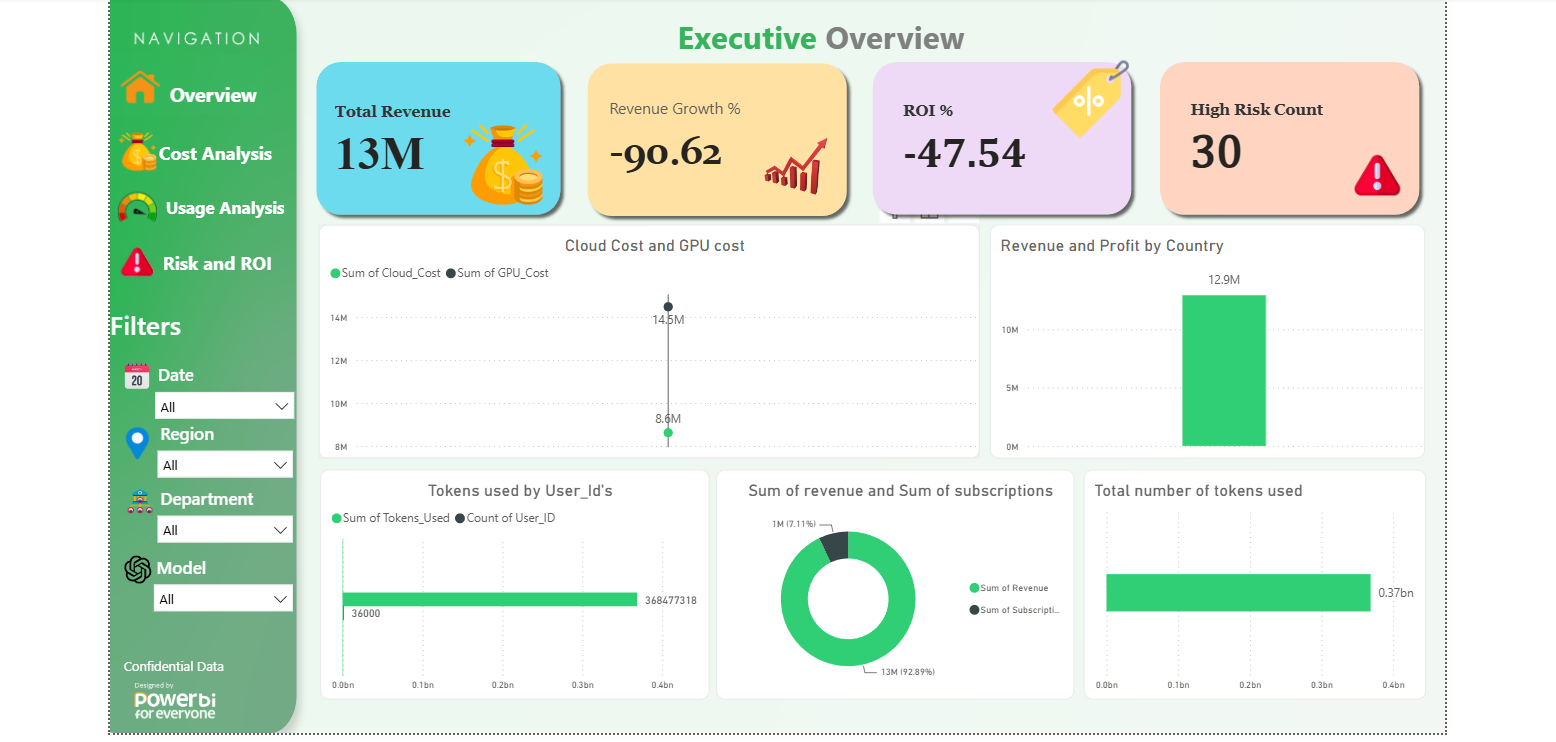

The dashboard page shown, as its layout file describes it:
{"tool":"powerbi","page":{"name":"Overview","canvas":[1360,750],"ordinal":0},"visuals":[{"type":"image","box":[0,0,202.5,750.3],"z":0},{"type":"lineChart","title":"Cloud Cost and GPU cost","fields":{"Y":["Sum(AI_Investment.Cloud_Cost)","Sum(AI_Investment.GPU_Cost)"]},"box":[212.5,231.2,673.8,238.8],"z":1000},{"type":"textbox","box":[8.9,667.5,127.4,35.7],"z":2000},{"type":"image","box":[9.5,692.6,115.2,47.3],"z":3000},{"type":"clusteredBarChart","title":"Tokens used by User_Id''s","fields":{"Y":["Sum(Usage_Data.Tokens_Used)","CountNonNull(Usage_Data.User_ID)"]},"box":[213.8,481.7,396.7,234.4],"z":4000},{"type":"textbox","box":[573.2,14,335,58.6],"z":5000},{"type":"image","box":[19.1,29.3,138.8,30.6],"z":6000},{"type":"lineStackedColumnComboChart","title":"Revenue and Profit by Country","fields":{"Y":["Sum(AI_Revenue.Revenue)"]},"box":[896.7,231.2,443.4,238.6],"z":7000},{"type":"donutChart","title":"Sum of revenue and Sum of subscriptions","fields":{"Y":["Sum(AI_Revenue.Revenue)","Sum(AI_Revenue.Subscription_Count)"]},"box":[618.2,481.7,364.5,234.4],"z":8000},{"type":"clusteredBarChart","title":"Total number of tokens used","fields":{"Y":["Sum(Usage_Data.Tokens_Used)"]},"box":[991.7,481.7,349,234.4],"z":9000},{"type":"actionButton","box":[0,58.6,157.9,61.1],"z":9001},{"type":"actionButton","box":[0,129.9,173.2,56],"z":9002},{"type":"actionButton","box":[0,186,186,56],"z":9003},{"type":"actionButton","box":[0,242,173.2,56],"z":9004},{"type":"shape","box":[0,307,169.4,52.2],"z":9005},{"type":"slicer","fields":{"Values":["AI_Investment.Date"]},"box":[35.7,368.1,161.8,68.8],"z":9006},{"type":"slicer","fields":{"Values":["AI_Investment.Department"]},"box":[38.2,494.2,157.9,66.2],"z":9007},{"type":"slicer","fields":{"Values":["AI_Revenue.Region"]},"box":[38.2,428,157.9,66.2],"z":9008},{"type":"slicer","fields":{"Values":["AI_Investment.Model_Name"]},"box":[34.4,564.3,161.8,68.8],"z":9009},{"type":"shape","box":[202.9,58.7,264.1,171],"z":9010},{"type":"cardVisual","fields":{"Data":["AI_Investment.Total Revenue"]},"box":[220.7,80.4,229.6,131.4],"z":9011},{"type":"shape","box":[769.4,58.6,279,170.7],"z":9013},{"type":"cardVisual","fields":{"Data":["AI_Investment.ROI %"]},"box":[791,75.2,234.4,140.1],"z":9014},{"type":"shape","box":[478.4,60,279.4,171],"z":9015},{"type":"shape","box":[1062.7,58.7,279.4,171],"z":9016},{"type":"cardVisual","fields":{"Data":["AI_Investment.High Risk Count"]},"box":[1084.4,80.4,239.8,134],"z":9017},{"type":"image","box":[1257.9,145.4,66.3,72.7],"z":9018},{"type":"image","box":[950.5,60,98.2,88],"z":9019},{"type":"cardVisual","fields":{"Data":["AI_Investment.Revenue Growth %"]},"box":[491.2,80.4,255.2,123.8],"z":9020},{"type":"image","box":[645.8,131.2,112.1,86.6],"z":9021},{"type":"image","box":[351.6,124.8,98.1,93],"z":9022},{"type":"image","box":[1.3,359.2,52.2,53.5],"z":9023},{"type":"image","box":[11.5,494.2,38.2,39.5],"z":9024},{"type":"image","box":[6.4,428,43.3,53.5],"z":9025},{"type":"image","box":[6.4,564.3,44.6,38.2],"z":9026}]}

Visuals, with their boxes on the page's 1360x750 design canvas (x1, y1, x2, y2). These are canvas units, not pixel positions in the 1556x742 screenshot, which may show the page scaled, cropped or inside an application window:
image: l=0, t=0, r=202, b=750
"Cloud Cost and GPU cost" lineChart: l=212, t=231, r=886, b=470
textbox: l=9, t=668, r=136, b=703
image: l=10, t=693, r=125, b=740
"Tokens used by User_Id''s" clusteredBarChart: l=214, t=482, r=610, b=716
textbox: l=573, t=14, r=908, b=73
image: l=19, t=29, r=158, b=60
"Revenue and Profit by Country" lineStackedColumnComboChart: l=897, t=231, r=1340, b=470
"Sum of revenue and Sum of subscriptions" donutChart: l=618, t=482, r=983, b=716
"Total number of tokens used" clusteredBarChart: l=992, t=482, r=1341, b=716
actionButton: l=0, t=59, r=158, b=120
actionButton: l=0, t=130, r=173, b=186
actionButton: l=0, t=186, r=186, b=242
actionButton: l=0, t=242, r=173, b=298
shape: l=0, t=307, r=169, b=359
slicer - AI_Investment.Date: l=36, t=368, r=198, b=437
slicer - AI_Investment.Department: l=38, t=494, r=196, b=560
slicer - AI_Revenue.Region: l=38, t=428, r=196, b=494
slicer - AI_Investment.Model_Name: l=34, t=564, r=196, b=633
shape: l=203, t=59, r=467, b=230
cardVisual - AI_Investment.Total Revenue: l=221, t=80, r=450, b=212
shape: l=769, t=59, r=1048, b=229
cardVisual - AI_Investment.ROI %: l=791, t=75, r=1025, b=215
shape: l=478, t=60, r=758, b=231
shape: l=1063, t=59, r=1342, b=230
cardVisual - AI_Investment.High Risk Count: l=1084, t=80, r=1324, b=214
image: l=1258, t=145, r=1324, b=218
image: l=950, t=60, r=1049, b=148
cardVisual - AI_Investment.Revenue Growth %: l=491, t=80, r=746, b=204
image: l=646, t=131, r=758, b=218
image: l=352, t=125, r=450, b=218
image: l=1, t=359, r=54, b=413
image: l=12, t=494, r=50, b=534
image: l=6, t=428, r=50, b=482
image: l=6, t=564, r=51, b=602
